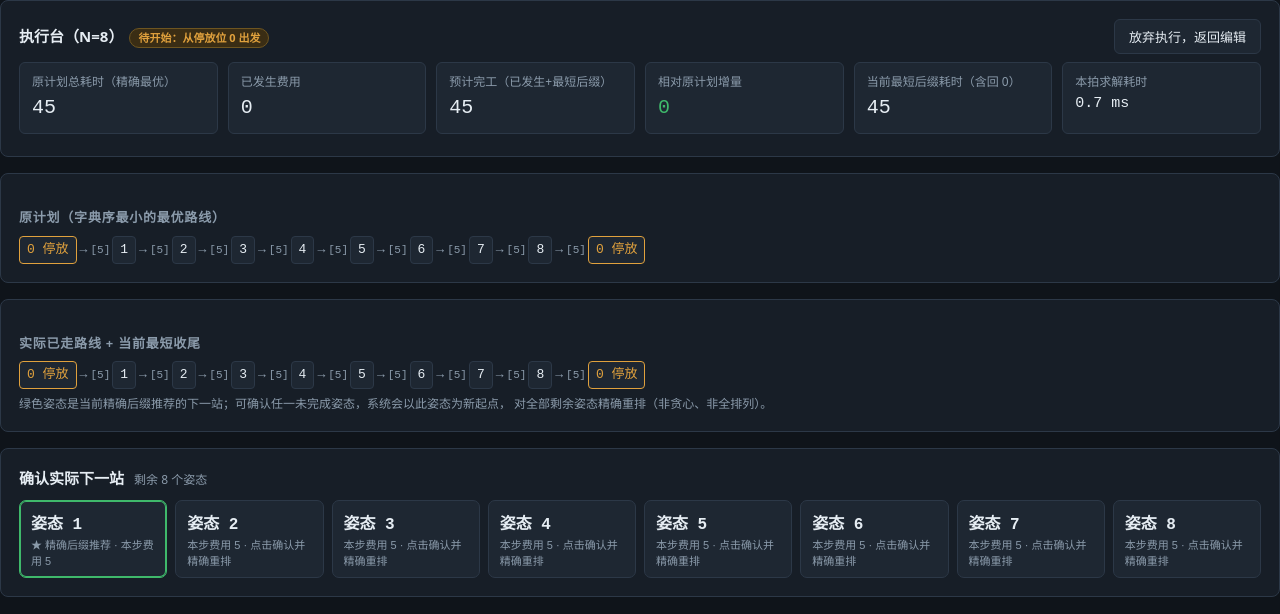
ExecutionConsole 组件 › 确认姿态后：累计费用/预计完工更新；已完成姿态禁用，推荐站标注
Expected: the text "已发生费用" is shown, [241,73,301,90]
Click the button titled "确认姿态 3" at (406, 538), box [332,500,480,578]
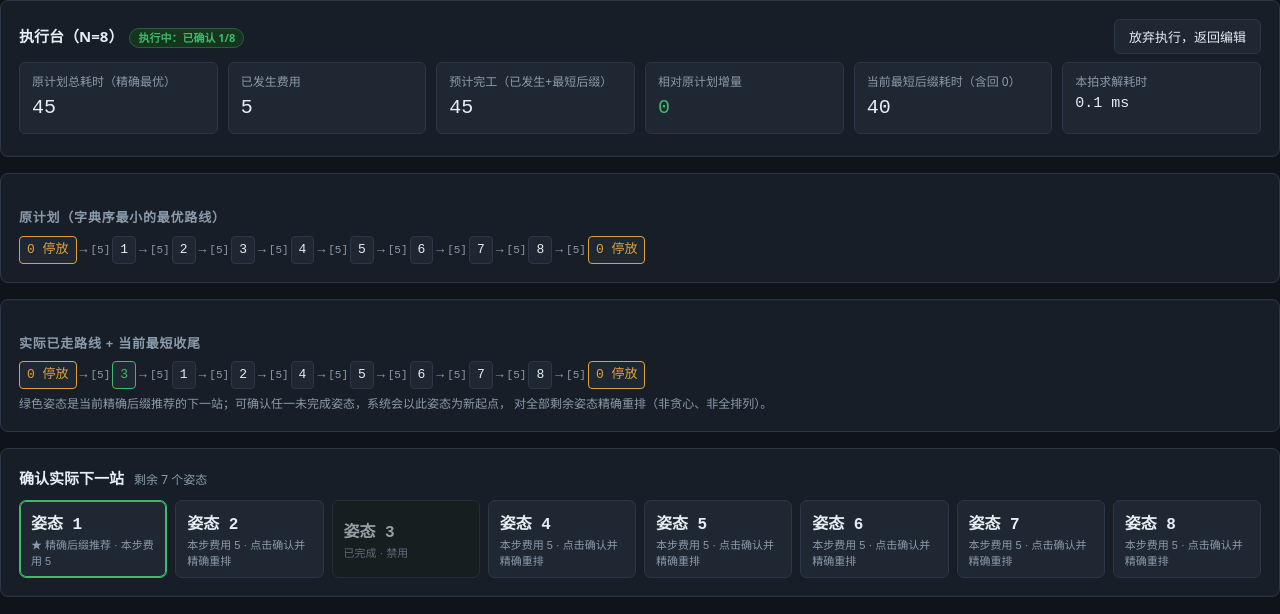
Now the text "5" below "已发生费用" is shown, box [241,96,253,119]
Now the button titled "确认姿态 3" is disabled, box [332,500,480,578]
Click the button titled "确认姿态 1" at (93, 538), box [19,500,167,578]
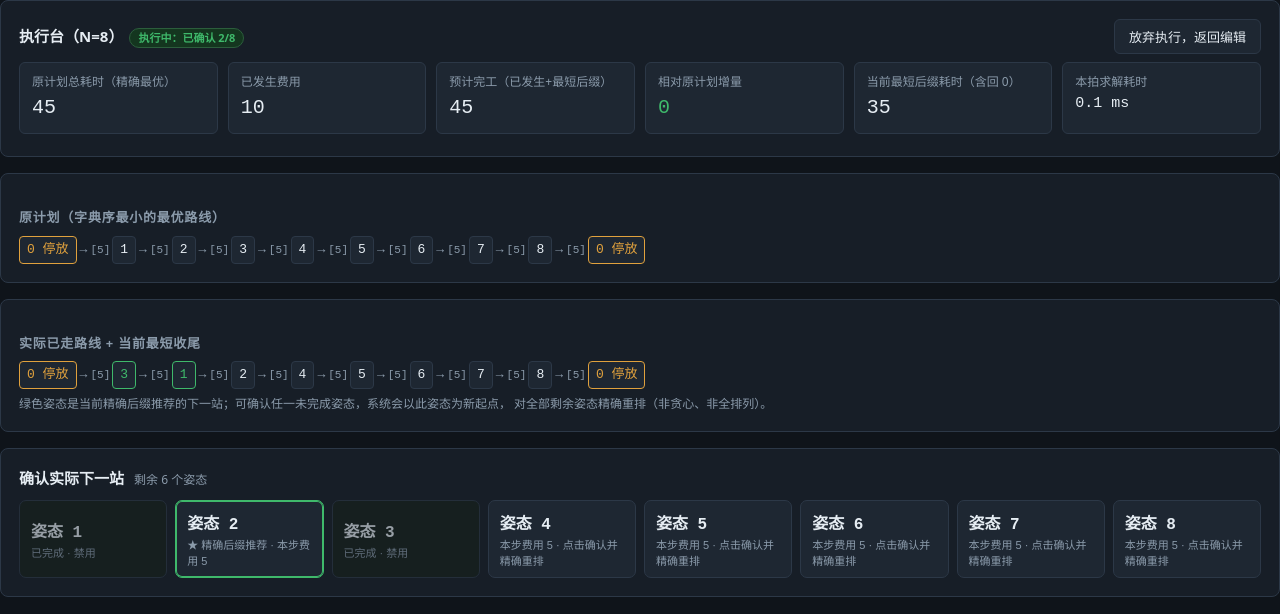
Now the button titled "确认姿态 1" is disabled, box [19,500,167,578]
Now the text "剩余 6 个姿态" is shown, box [134,471,207,488]
